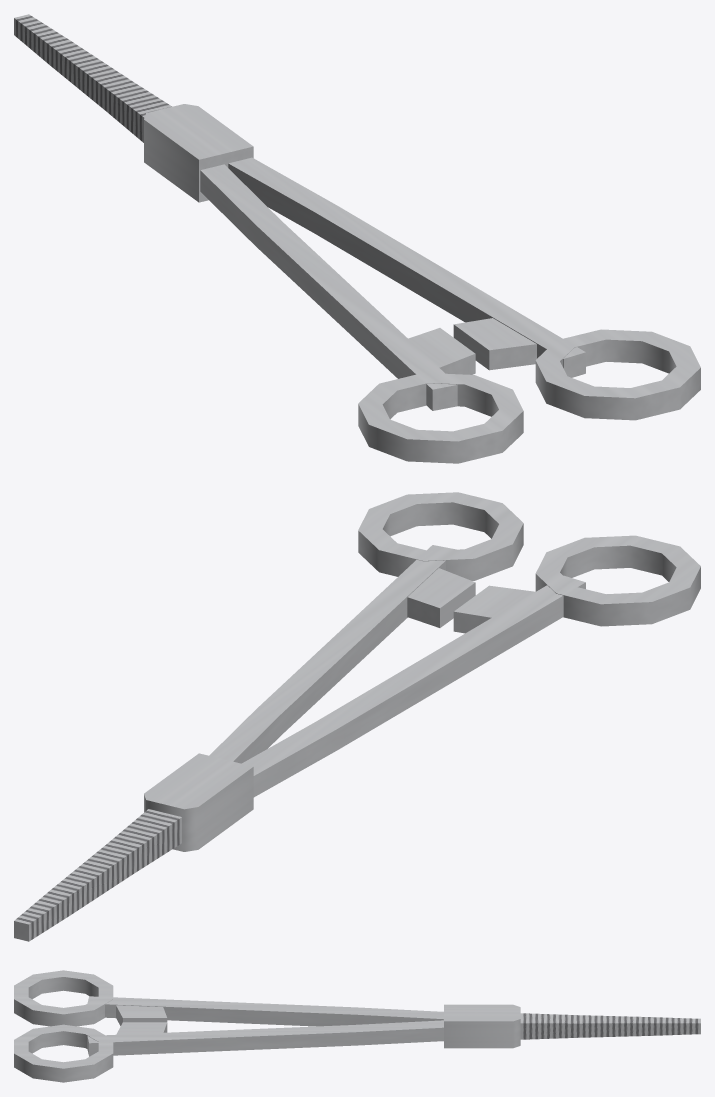
The model's file is s6b_crile_clamp.glb.
The picture shows the model from 3 angles, top to bottom: view 1: azimuth 30°, elevation 25°; view 2: azimuth 150°, elevation 25°; view 3: azimuth 270°, elevation 25°; orthographic projection. The views are drawn at different scales.
Visible parts, largest first — view 1: s6b_crile_clamp; view 2: s6b_crile_clamp; view 3: s6b_crile_clamp.
Part boxes in pixels (x1,y1,x2,y2): s6b_crile_clamp: (14, 14, 700, 463); s6b_crile_clamp: (14, 492, 700, 941); s6b_crile_clamp: (14, 970, 700, 1082).
Bounding box in the file's own units: 0.0471 × 0.006 × 0.139.
1 material, 1 textured.
